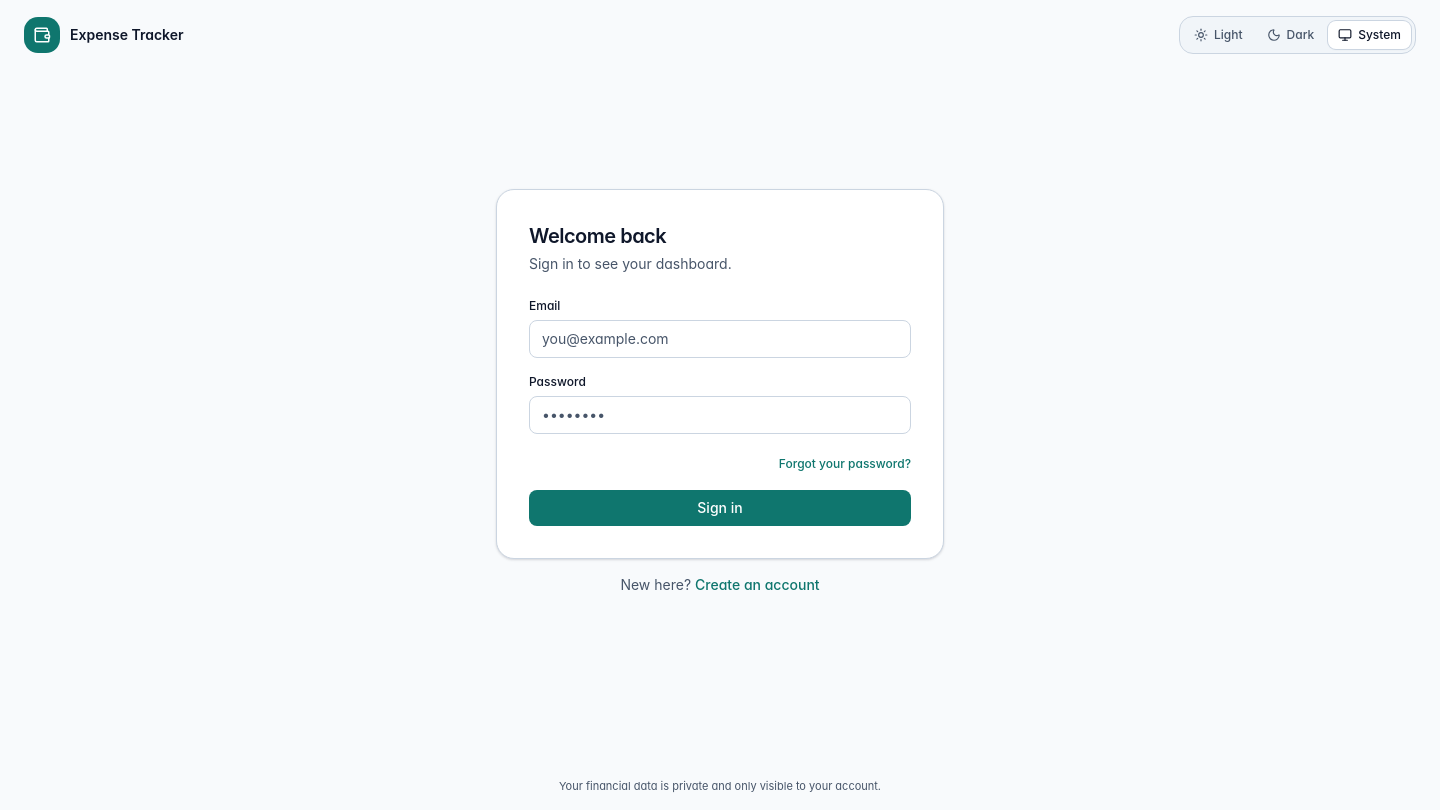
Login › blocks submission and shows validation messages when empty
Click the button "Sign in" at point(720, 508), box x1=529 y1=490 x2=911 y2=526
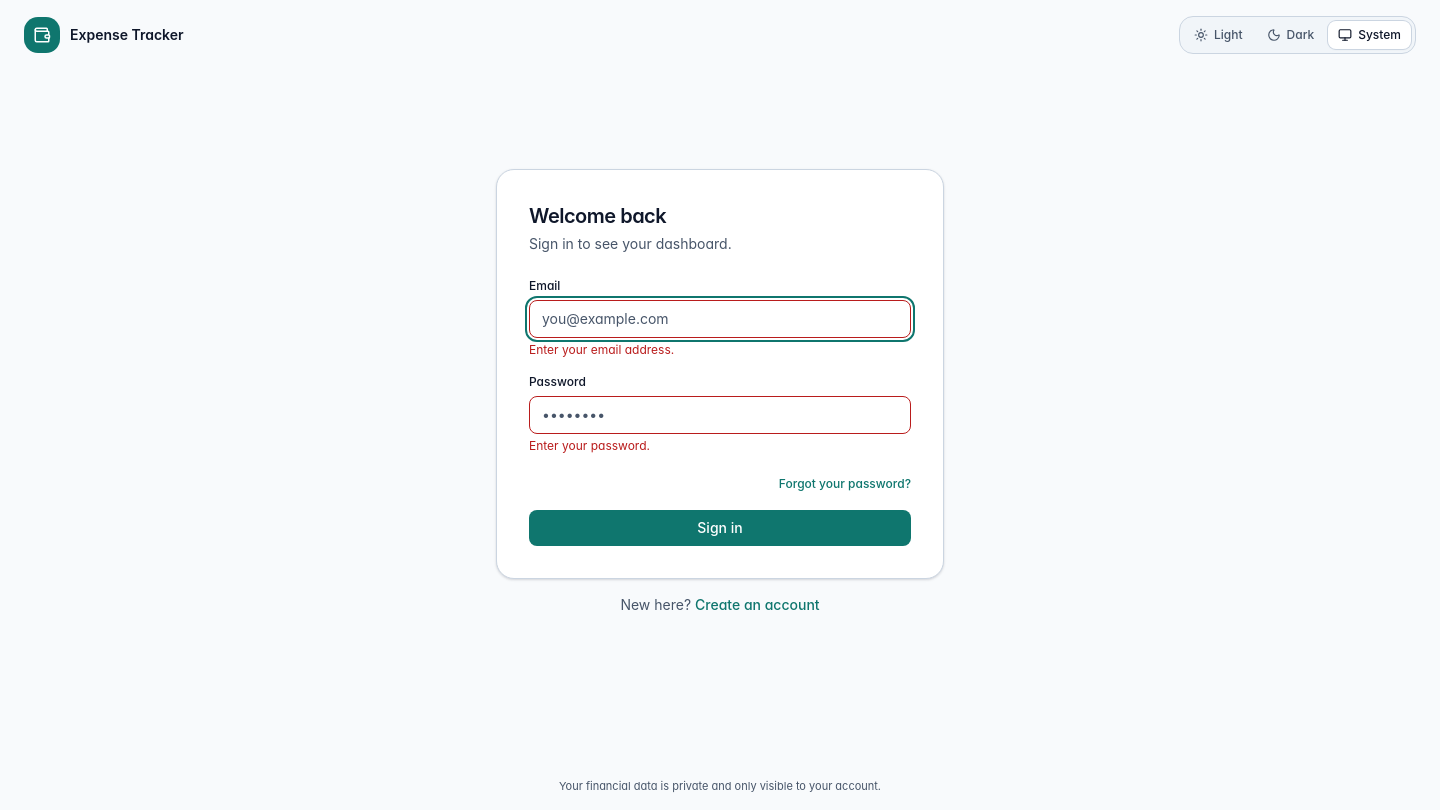
Result: the text "Enter your email address." is shown at x1=529 y1=342 x2=674 y2=357
Result: the text "Enter your password." is shown at x1=529 y1=438 x2=650 y2=453
